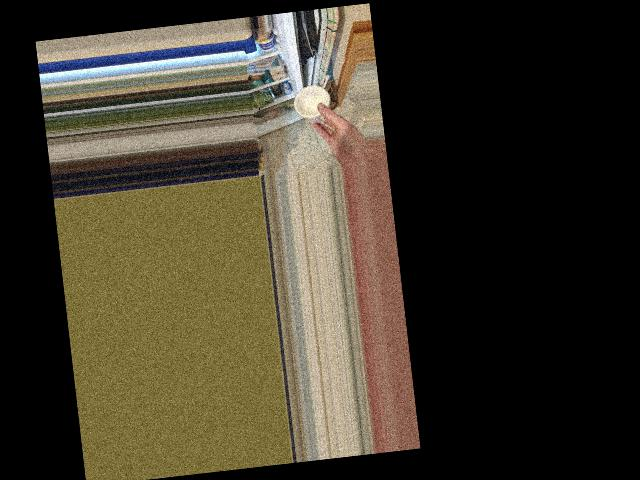cotage: (302, 86, 333, 123)
